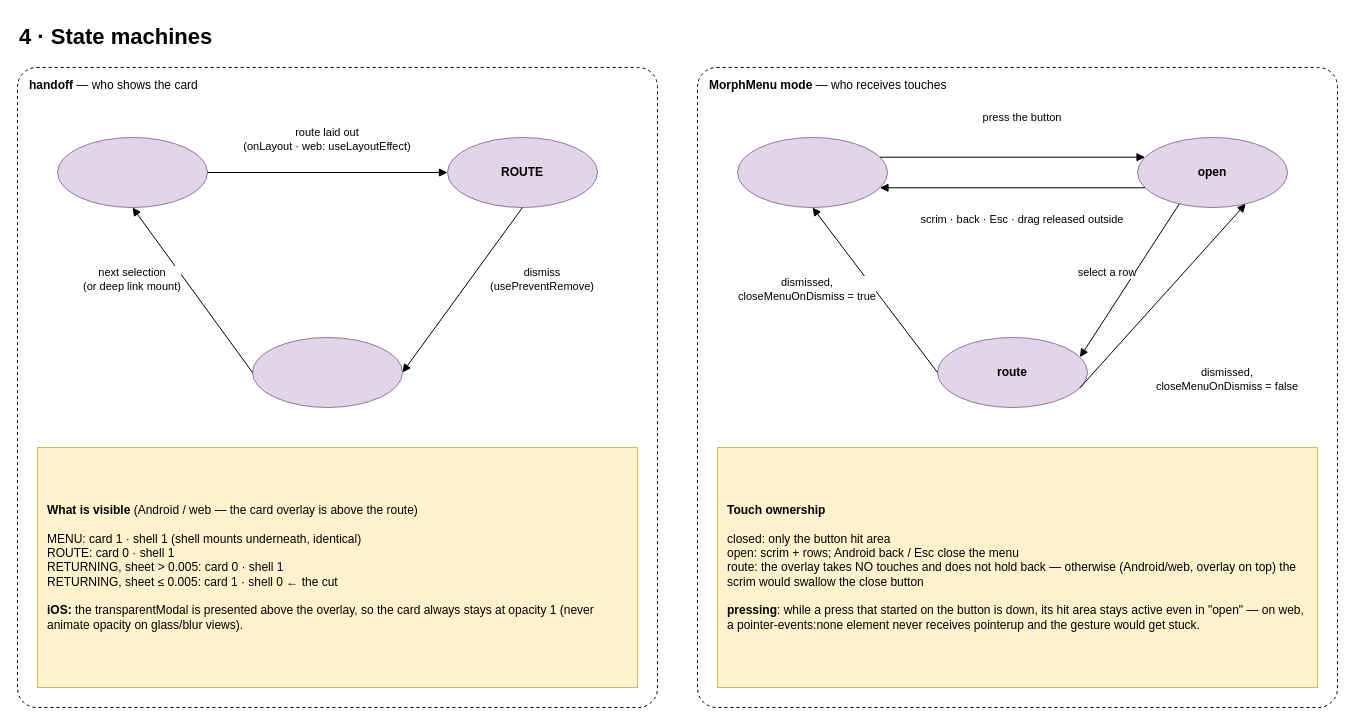
Some shapes in this 1355 by 725 pixel diagram are drawn without their labels. The shapes that lost their labels are listed below. From the top down, each one's centre as x and y in pixels, then its label:
the point at 132,172: MENU
the point at 812,172: closed
the point at 327,372: RETURNING
